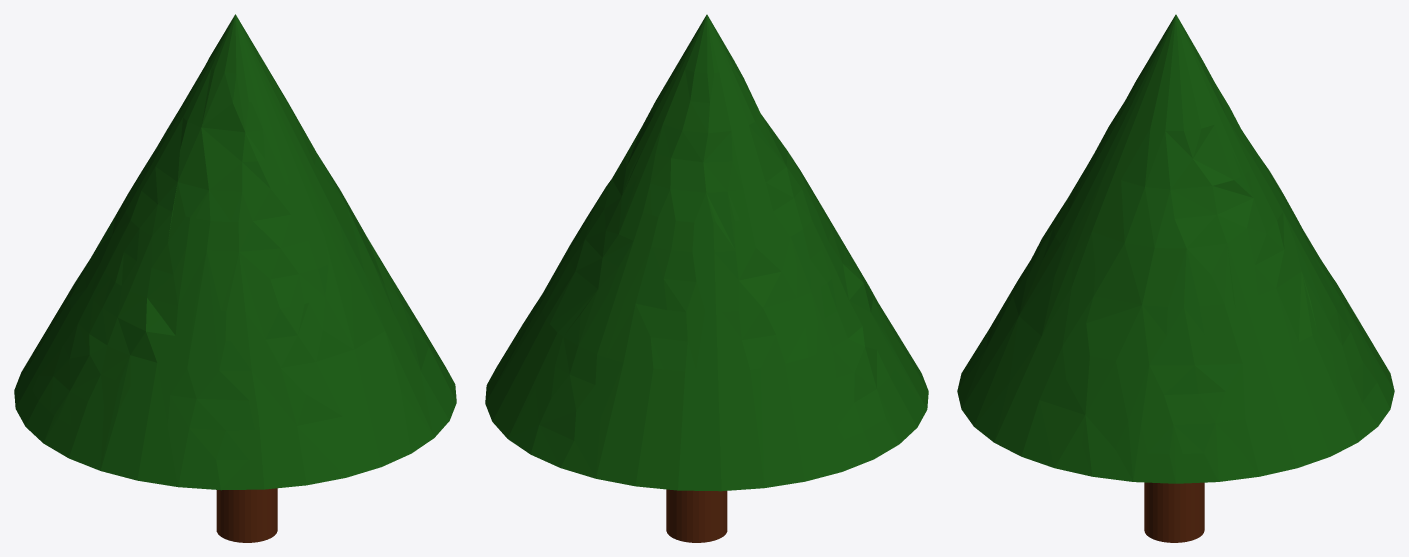
The model's file is Tree Medium.fbx.
3 renders of one model, left to right at view 1: azimuth 30°, elevation 25°; view 2: azimuth 150°, elevation 25°; view 3: azimuth 270°, elevation 25°, orthographic.
Visible parts, largest first — view 1: Cone.003; view 2: Cone.003; view 3: Cone.003.
Part boxes in pixels (<box>): Cone.003: <box>14,14,456,542</box>; Cone.003: <box>485,14,928,542</box>; Cone.003: <box>957,14,1394,542</box>.
Bounding box in the file's own units: 744 × 959 × 744.
